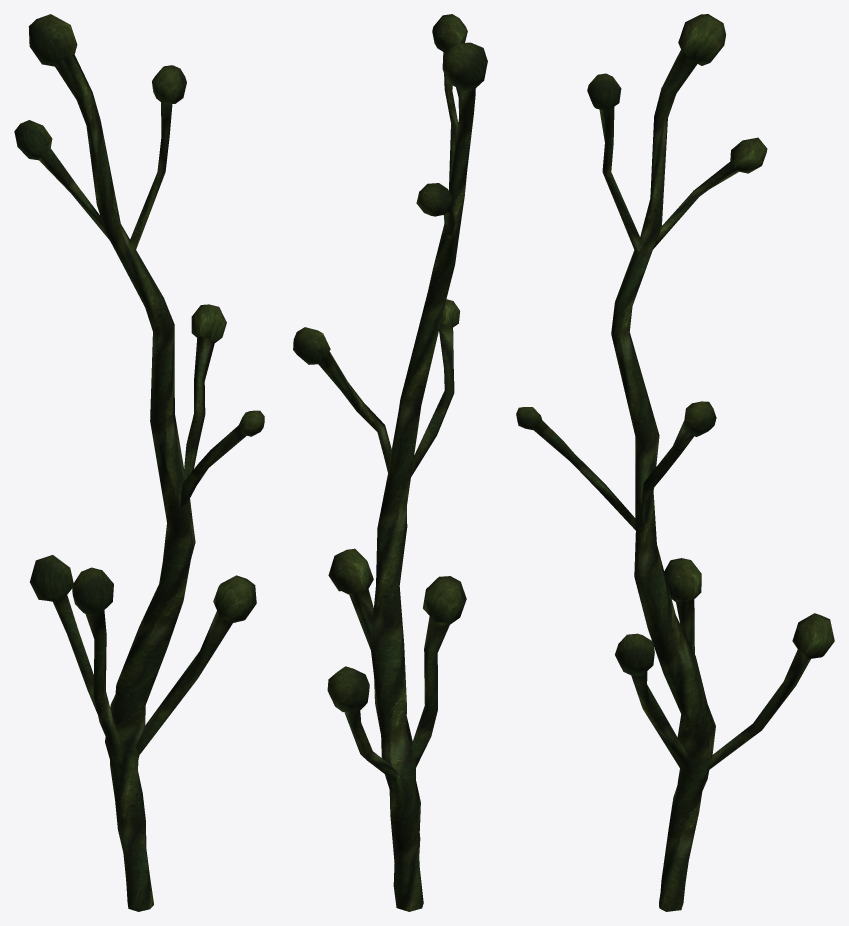
File: PondWeed.001_FBX_still.fbx
3 renders of one model, left to right at view 1: azimuth 30°, elevation 25°; view 2: azimuth 150°, elevation 25°; view 3: azimuth 270°, elevation 25°, orthographic. The views are drawn at different scales.
Visible parts, largest first — view 1: PondWeed.001_gameasset; view 2: PondWeed.001_gameasset; view 3: PondWeed.001_gameasset.
Boxes of the visible parts, left/top/right/bottom form: PondWeed.001_gameasset: left=14, top=14, right=264, bottom=911; PondWeed.001_gameasset: left=293, top=14, right=487, bottom=911; PondWeed.001_gameasset: left=516, top=14, right=834, bottom=911.
Size of the model in its own units: 2.74 by 12.22 by 4.12.
1 material, 1 textured.
